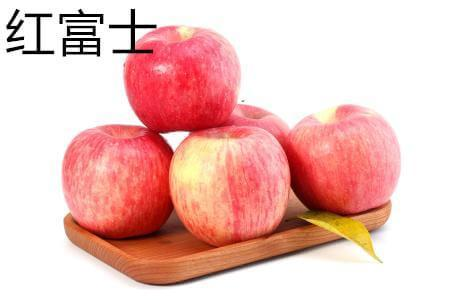apple: (170, 125, 290, 247), (62, 123, 174, 240), (122, 27, 243, 133), (287, 104, 401, 214), (190, 105, 289, 162)
